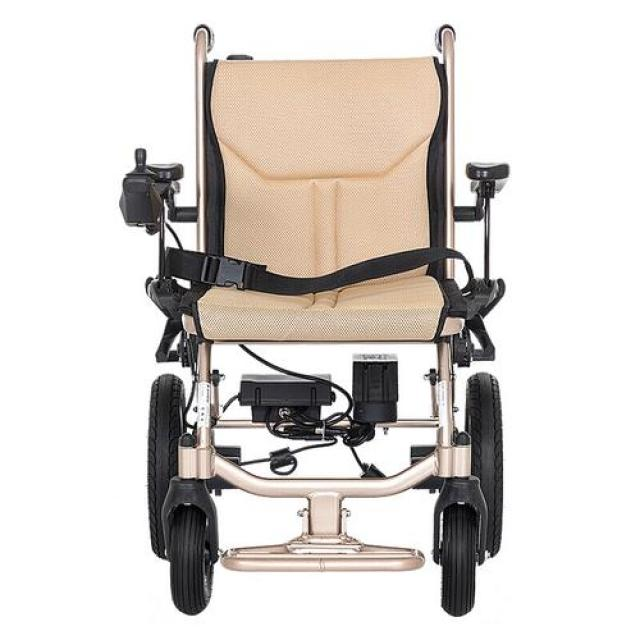wheelchairs: (115, 8, 521, 621)
